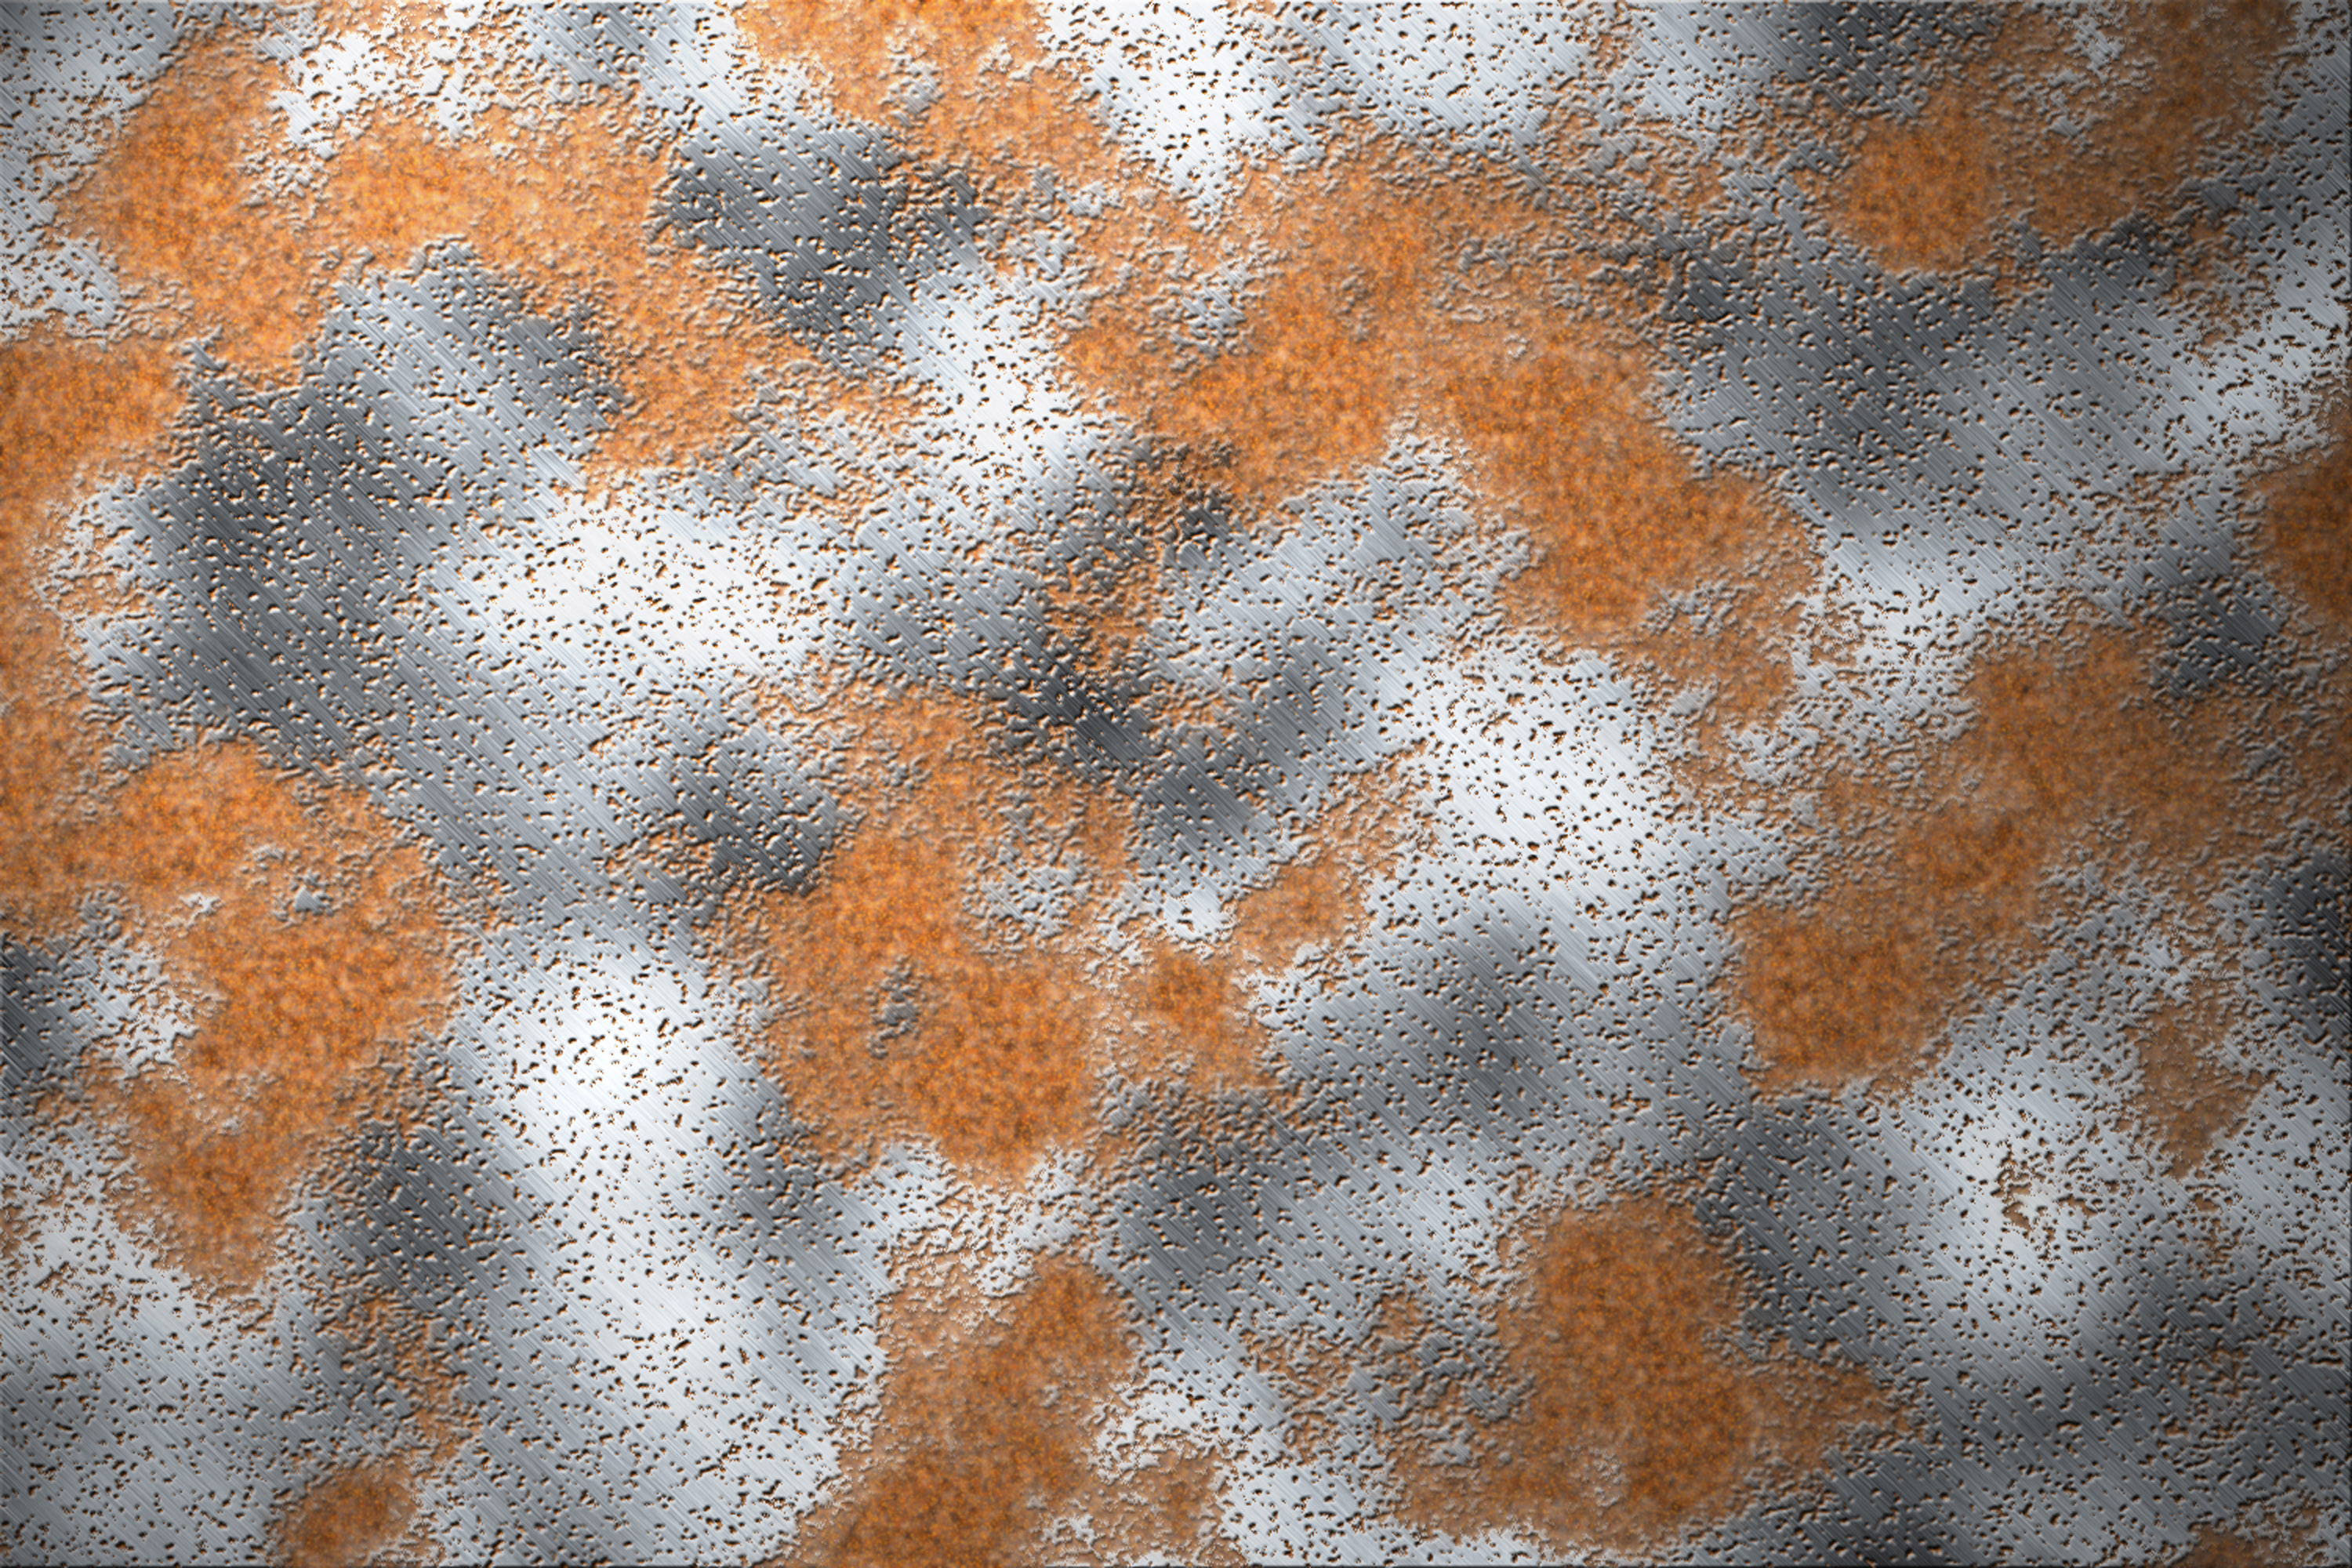rust: (19, 334, 438, 1209), (626, 693, 1300, 1169), (1206, 157, 1806, 691), (788, 1251, 1220, 1552)
